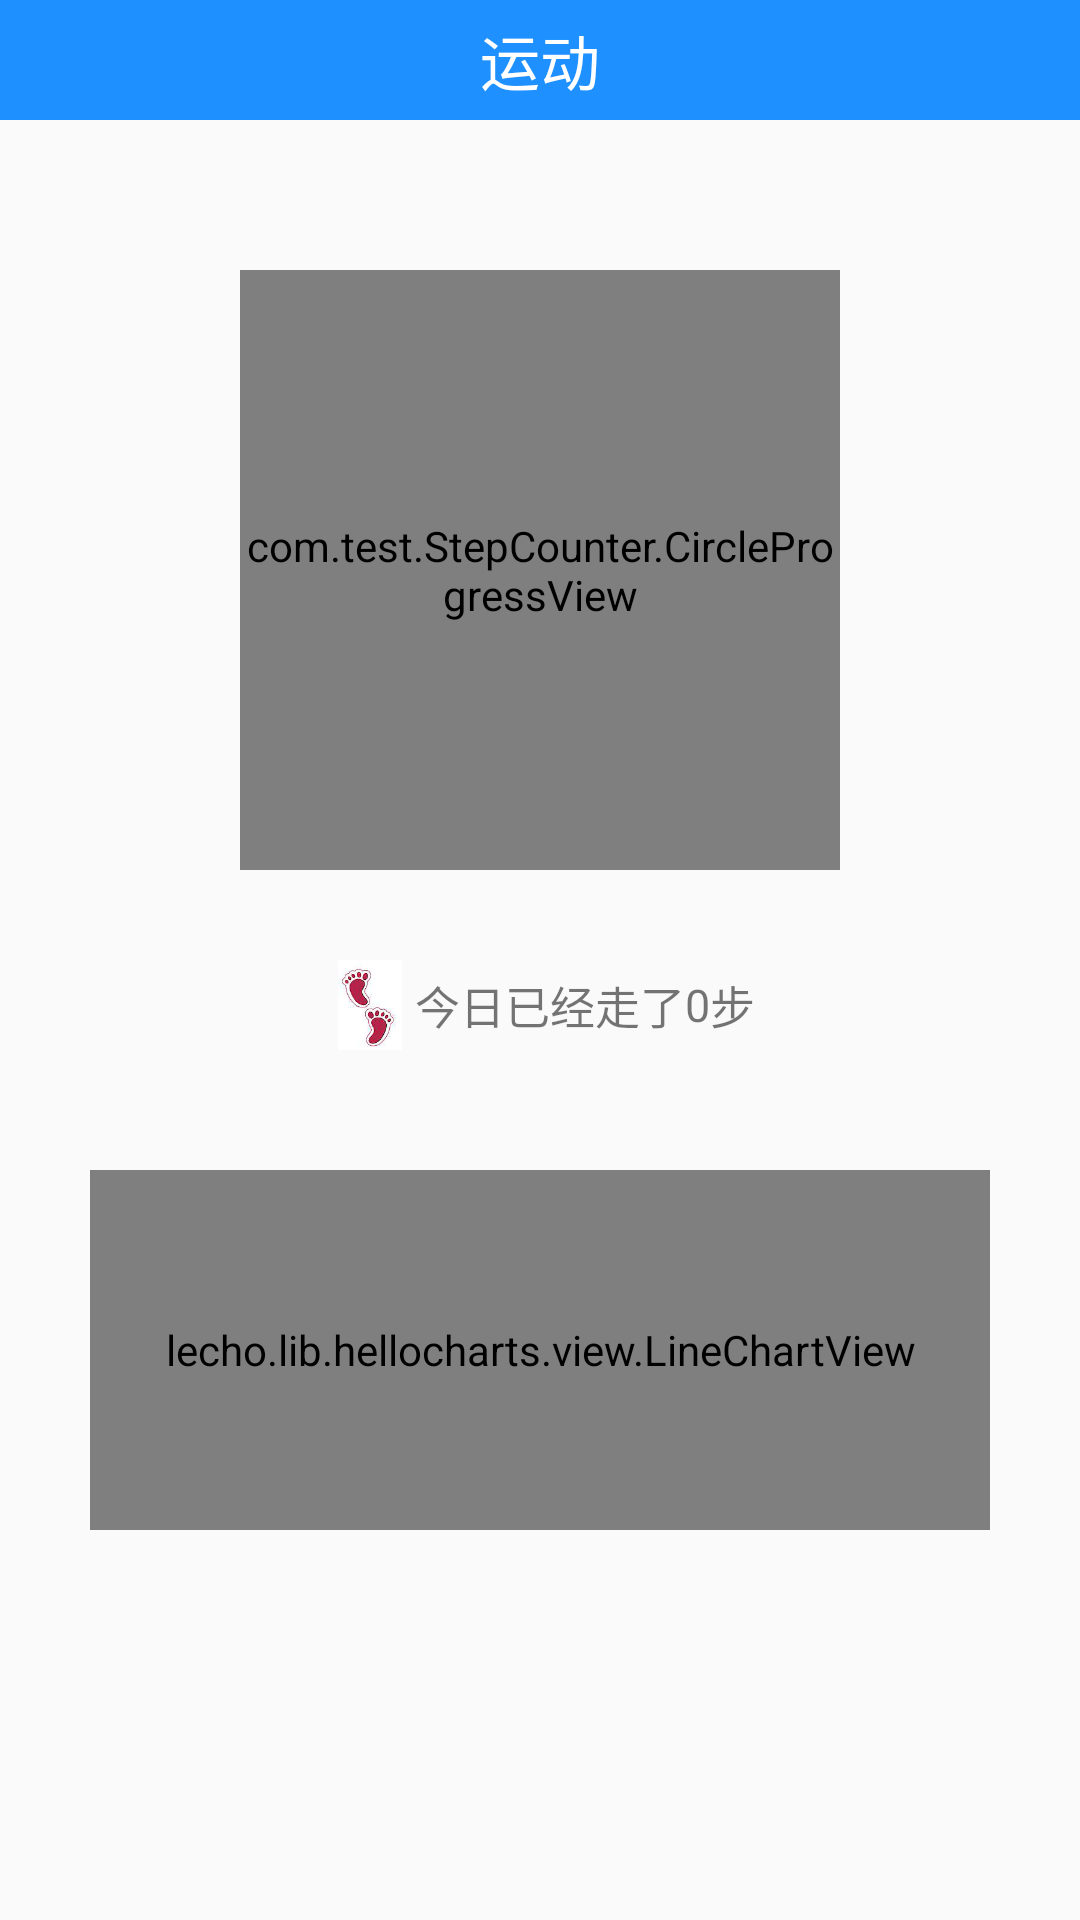

Screen size 1080px×1920px. Icon name, then its box in pixels as (x1, y1, x2, y2):
foot: (341, 969, 396, 1047)
